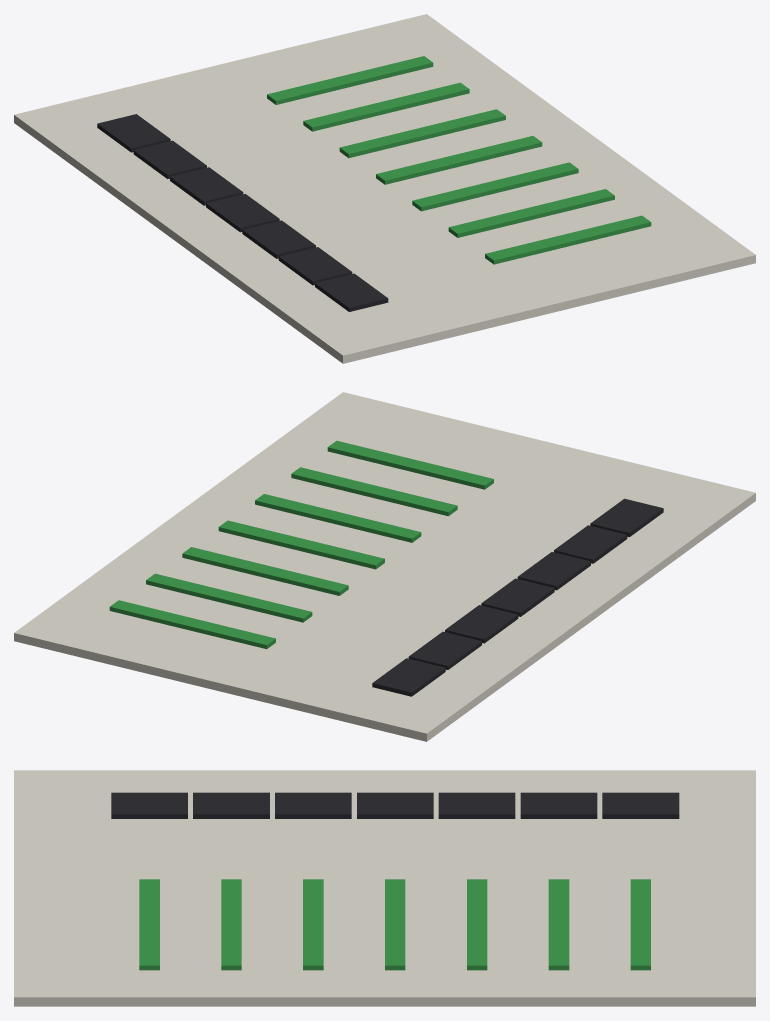
File: fair_price_list.glb
3 views of the same model, one above another, from view 1: azimuth 30°, elevation 25°; view 2: azimuth 150°, elevation 25°; view 3: azimuth 270°, elevation 25° (orthographic). The views are drawn at different scales.
Parts seen in each view (by area): view 1: paper_list_paper, prices_list_money, phones_list_ink; view 2: paper_list_paper, prices_list_money, phones_list_ink; view 3: paper_list_paper, phones_list_ink, prices_list_money.
Boxes of the visible parts, x1=… form: paper_list_paper: x1=14, y1=14, x2=755, y2=363; prices_list_money: x1=267, y1=56, x2=651, y2=264; phones_list_ink: x1=97, y1=114, x2=388, y2=311; paper_list_paper: x1=14, y1=392, x2=755, y2=741; prices_list_money: x1=109, y1=440, x2=493, y2=649; phones_list_ink: x1=372, y1=498, x2=663, y2=696; paper_list_paper: x1=14, y1=770, x2=755, y2=1006; phones_list_ink: x1=111, y1=792, x2=679, y2=818; prices_list_money: x1=139, y1=879, x2=650, y2=970.
Bounding box in the file's own units: 0.21 × 0.006 × 0.29.
